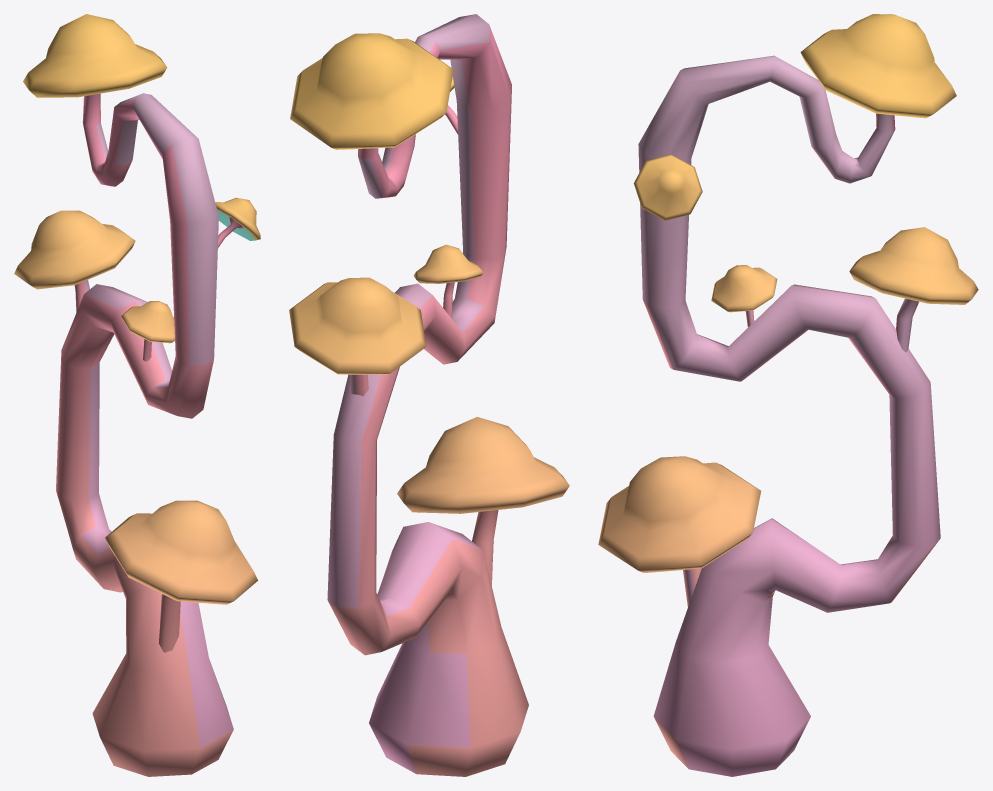
File: setaM06.fbx
3 renders of one model, left to right at view 1: azimuth 30°, elevation 25°; view 2: azimuth 150°, elevation 25°; view 3: azimuth 270°, elevation 25°, orthographic. The views are drawn at different scales.
Visible parts, largest first — view 1: SetaM03; view 2: SetaM03; view 3: SetaM03.
Part boxes in pixels (bbox=[...]): SetaM03: bbox=[14, 14, 260, 776]; SetaM03: bbox=[289, 14, 569, 776]; SetaM03: bbox=[598, 14, 978, 776].
Bounding box in the file's own units: 1903 × 9183 × 4223.
